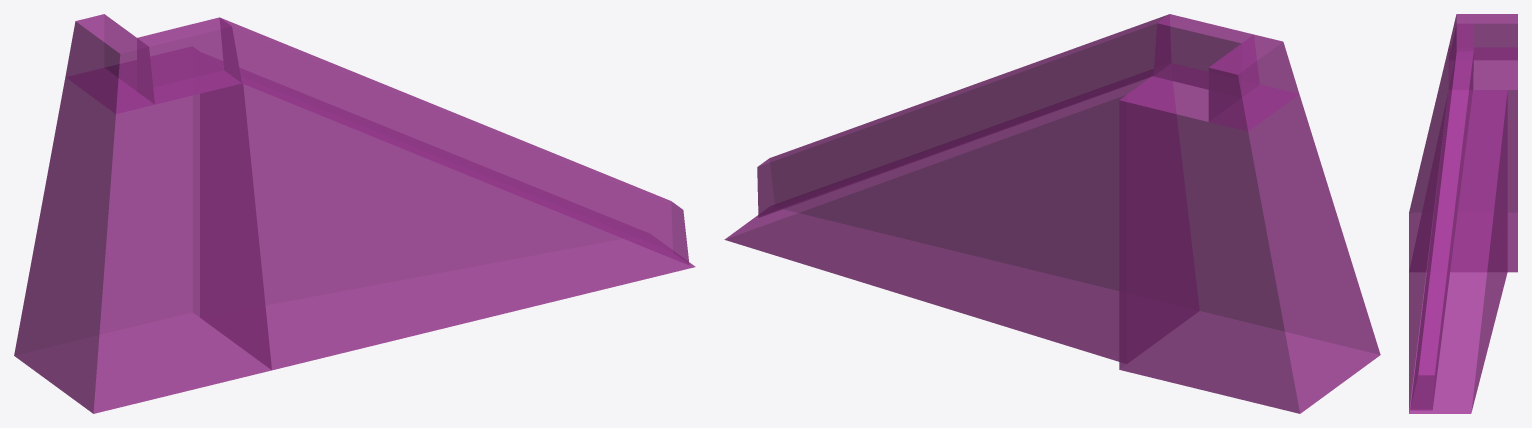
File: SM_Bld_Wall_Fort_Stairs_01_Collision.fbx
3 views of the same model, side by side, from view 1: azimuth 30°, elevation 25°; view 2: azimuth 150°, elevation 25°; view 3: azimuth 270°, elevation 25° (orthographic). The views are drawn at different scales.
Visible parts, largest first — view 1: SM_Bld_Wall_Fort_Stairs_01_Collision; view 2: SM_Bld_Wall_Fort_Stairs_01_Collision; view 3: SM_Bld_Wall_Fort_Stairs_01_Collision.
Boxes of the visible parts, left/top/right/bottom form: SM_Bld_Wall_Fort_Stairs_01_Collision: left=14, top=14, right=695, bottom=413; SM_Bld_Wall_Fort_Stairs_01_Collision: left=724, top=14, right=1380, bottom=413; SM_Bld_Wall_Fort_Stairs_01_Collision: left=1409, top=14, right=1517, bottom=413.
Size of the model in its own units: 1786 by 906 by 408.
